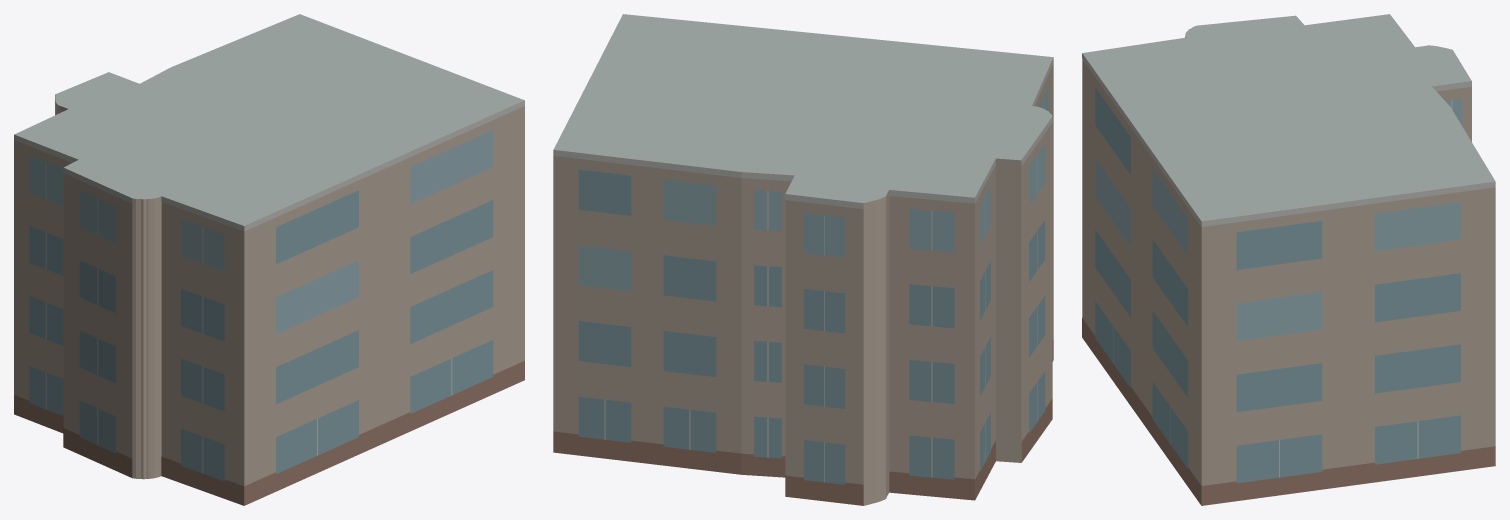
File: survey-upis-32815106.glb
3 renders of one model, left to right at view 1: azimuth 30°, elevation 25°; view 2: azimuth 150°, elevation 25°; view 3: azimuth 270°, elevation 25°, orthographic. The views are drawn at different scales.
Parts seen in each view (by area): view 1: survey-upis-32815106.tmp; view 2: survey-upis-32815106.tmp; view 3: survey-upis-32815106.tmp.
Boxes of the visible parts, bbox=[...] form: survey-upis-32815106.tmp: bbox=[14, 14, 524, 505]; survey-upis-32815106.tmp: bbox=[553, 14, 1053, 505]; survey-upis-32815106.tmp: bbox=[1082, 14, 1495, 505].
Size of the model in its own units: 19.16 by 12.25 by 16.15.
